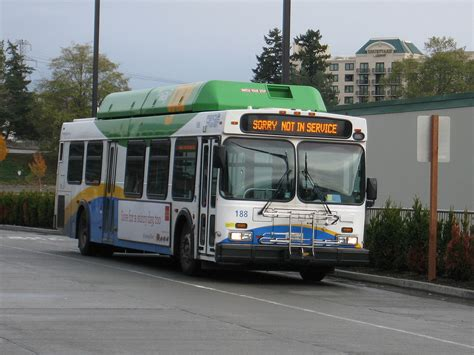bus: (57, 88, 365, 282)
